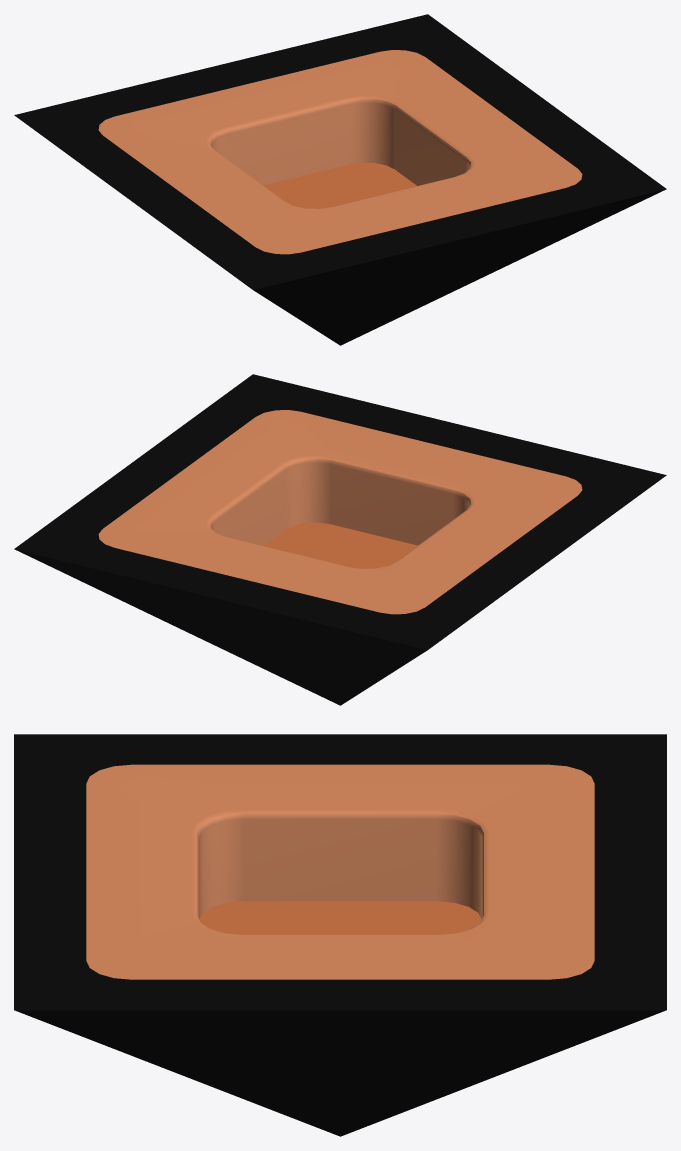
Rendered from Cell_Orange_V2.fbx.
3 views of the same model, one above another, from view 1: azimuth 30°, elevation 25°; view 2: azimuth 150°, elevation 25°; view 3: azimuth 270°, elevation 25° (orthographic). The views are drawn at different scales.
Parts seen in each view (by area): view 1: Cell_Orange_v2; view 2: Cell_Orange_v2; view 3: Cell_Orange_v2.
Boxes of the visible parts, box(x1,y1,x2,y2) form: Cell_Orange_v2: box(14, 14, 666, 345); Cell_Orange_v2: box(14, 374, 666, 705); Cell_Orange_v2: box(14, 734, 666, 1136).
Size of the model in its own units: 112 by 50.06 by 112.
